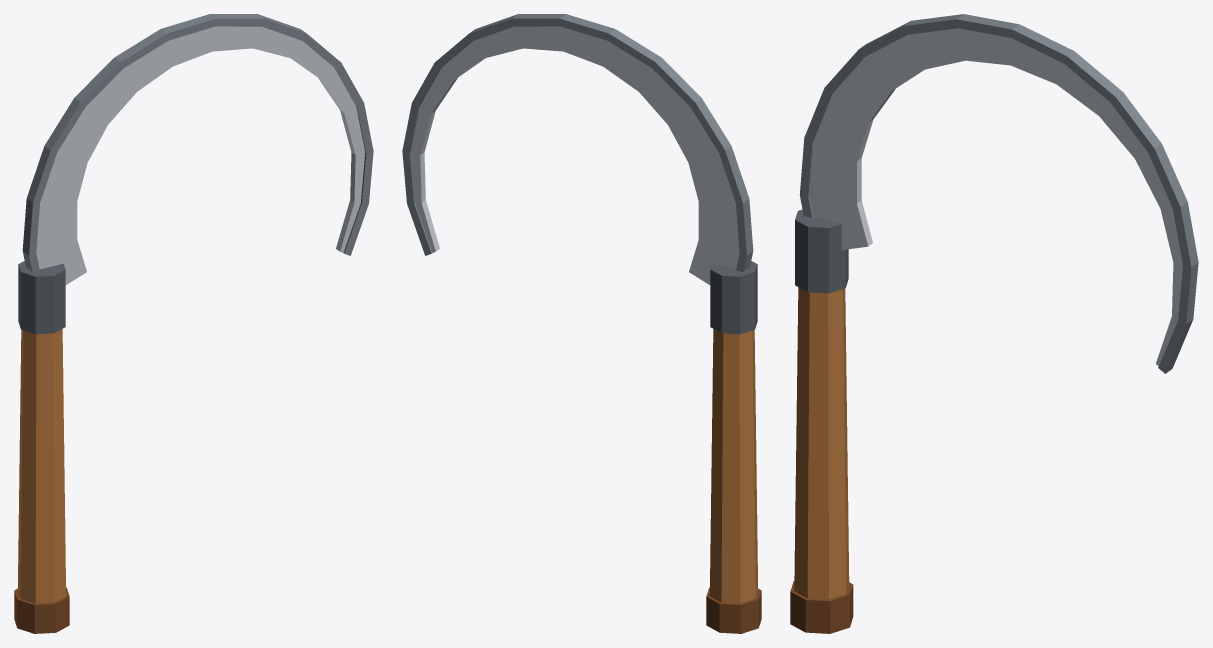
File: hoz.glb
3 renders of one model, left to right at view 1: azimuth 30°, elevation 25°; view 2: azimuth 150°, elevation 25°; view 3: azimuth 330°, elevation 25°, orthographic. The views are drawn at different scales.
Visible parts, largest first — view 1: hoz_acero, hoz_madera, hoz_acero_osc, hoz_metal_osc, hoz_madera_osc; view 2: hoz_acero, hoz_madera, hoz_acero_osc, hoz_metal_osc, hoz_madera_osc; view 3: hoz_acero, hoz_madera, hoz_acero_osc, hoz_metal_osc, hoz_madera_osc.
Part boxes in pixels (bbox=[...]): hoz_acero: bbox=[36, 26, 365, 284]; hoz_madera: bbox=[17, 329, 66, 603]; hoz_acero_osc: bbox=[22, 14, 373, 272]; hoz_metal_osc: bbox=[18, 261, 65, 334]; hoz_madera_osc: bbox=[14, 587, 69, 633]; hoz_acero: bbox=[410, 26, 739, 284]; hoz_madera: bbox=[709, 329, 758, 603]; hoz_acero_osc: bbox=[402, 14, 753, 272]; hoz_metal_osc: bbox=[710, 261, 757, 334]; hoz_madera_osc: bbox=[706, 587, 761, 633]; hoz_acero: bbox=[809, 28, 1182, 366]; hoz_madera: bbox=[794, 287, 849, 599]; hoz_acero_osc: bbox=[799, 14, 1198, 373]; hoz_metal_osc: bbox=[795, 209, 848, 293]; hoz_madera_osc: bbox=[790, 581, 853, 633].
Bounding box in the file's own units: 0.3848 × 0.5873 × 0.054.
